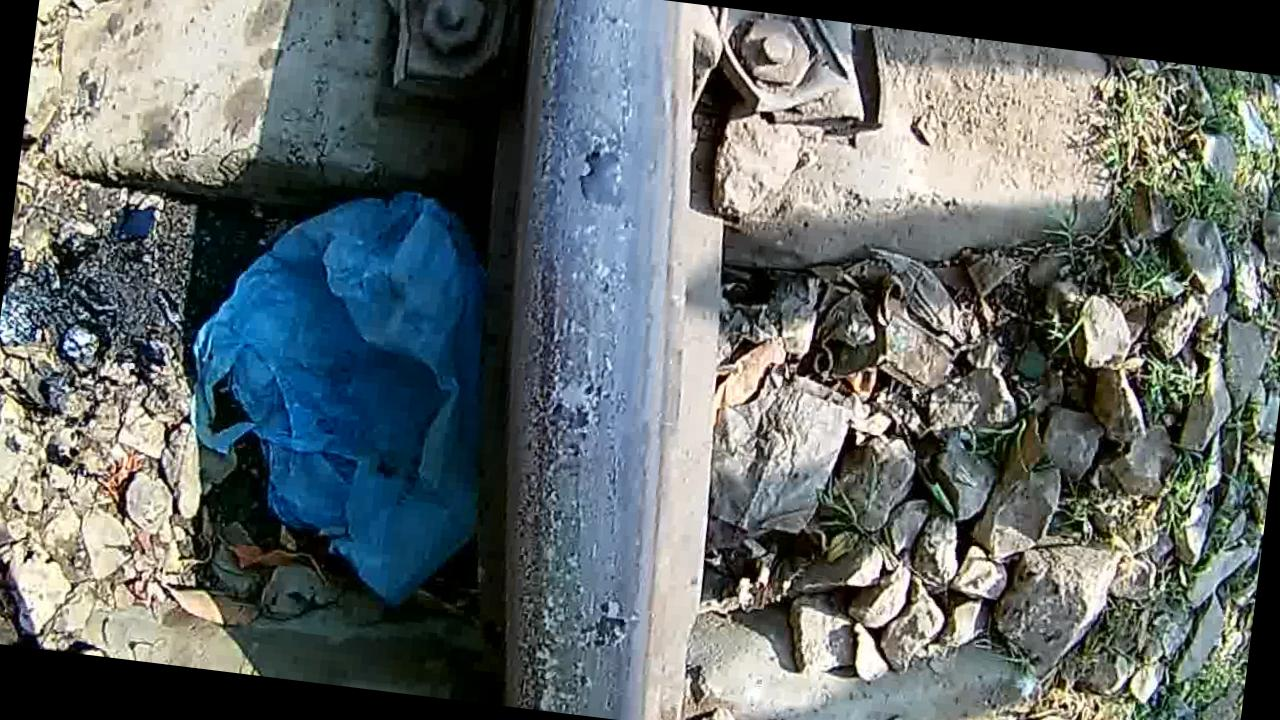crack: (450, 0, 722, 720)
